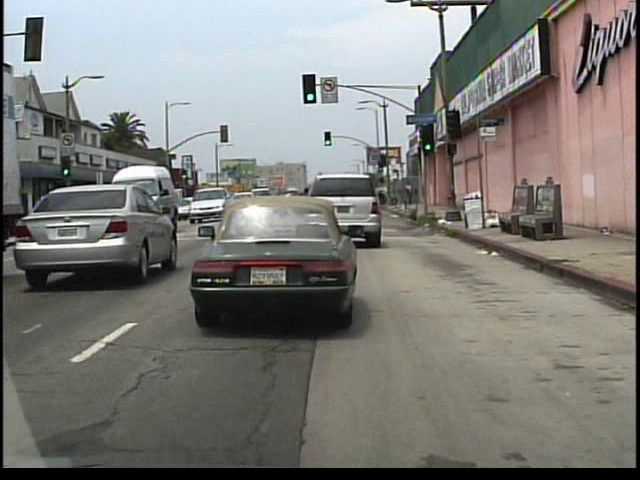person: (406, 179, 415, 205)
